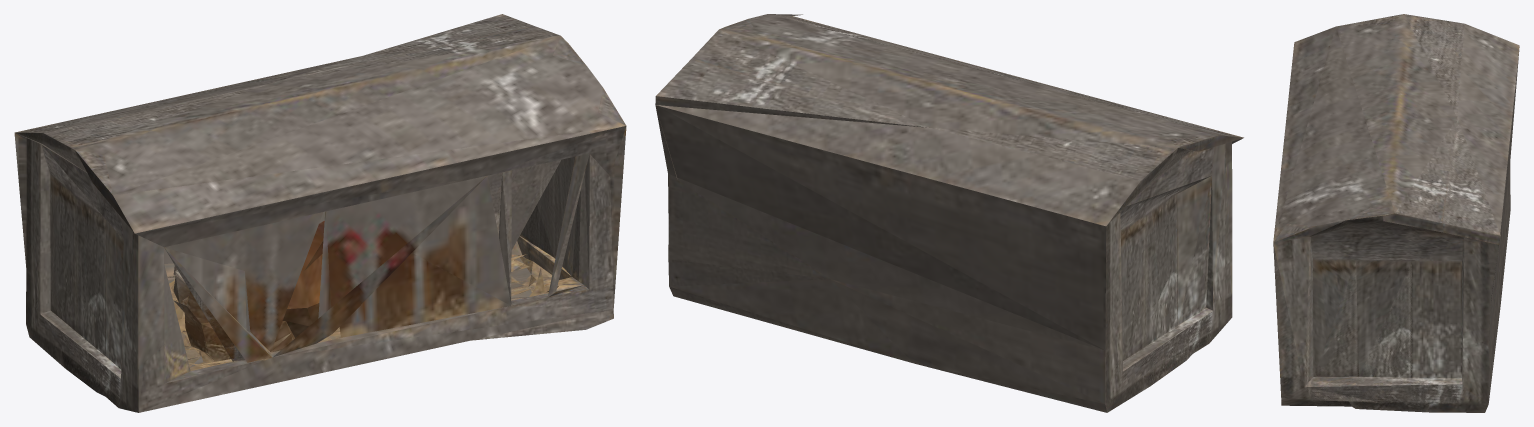
The model's file is hen_coop.glb.
The picture shows the model from 3 angles, left to right: view 1: azimuth 30°, elevation 25°; view 2: azimuth 150°, elevation 25°; view 3: azimuth 270°, elevation 25°; orthographic projection. The views are drawn at different scales.
Visible parts, largest first — view 1: output_unwrapped; view 2: output_unwrapped; view 3: output_unwrapped.
Part boxes in pixels (left/top/right/bottom): output_unwrapped: left=14, top=14, right=626, bottom=412; output_unwrapped: left=655, top=14, right=1243, bottom=412; output_unwrapped: left=1273, top=14, right=1519, bottom=412.
Size of the model in its own units: 1.5 by 0.6933 by 0.764.
Materials: 1 (1 with a texture image).
